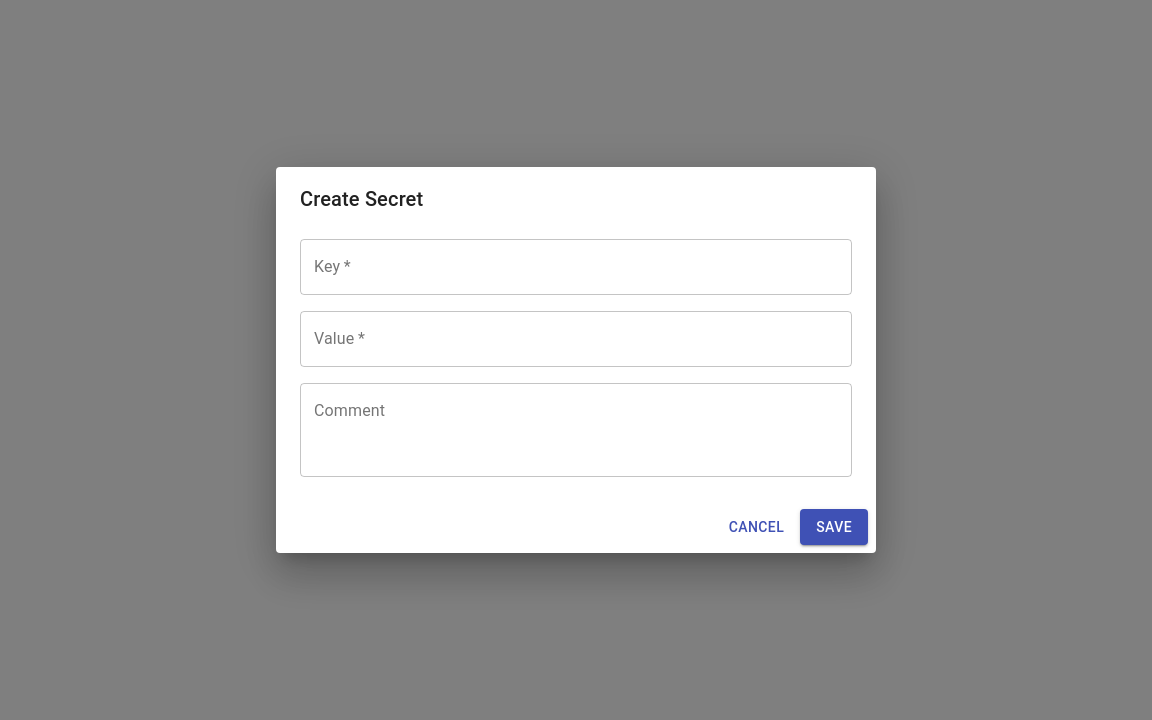
SecretDialog › should validate form fields
Try to save with empty fields
Click the button "Save".
click(834, 527)  # box [800,509,868,545]
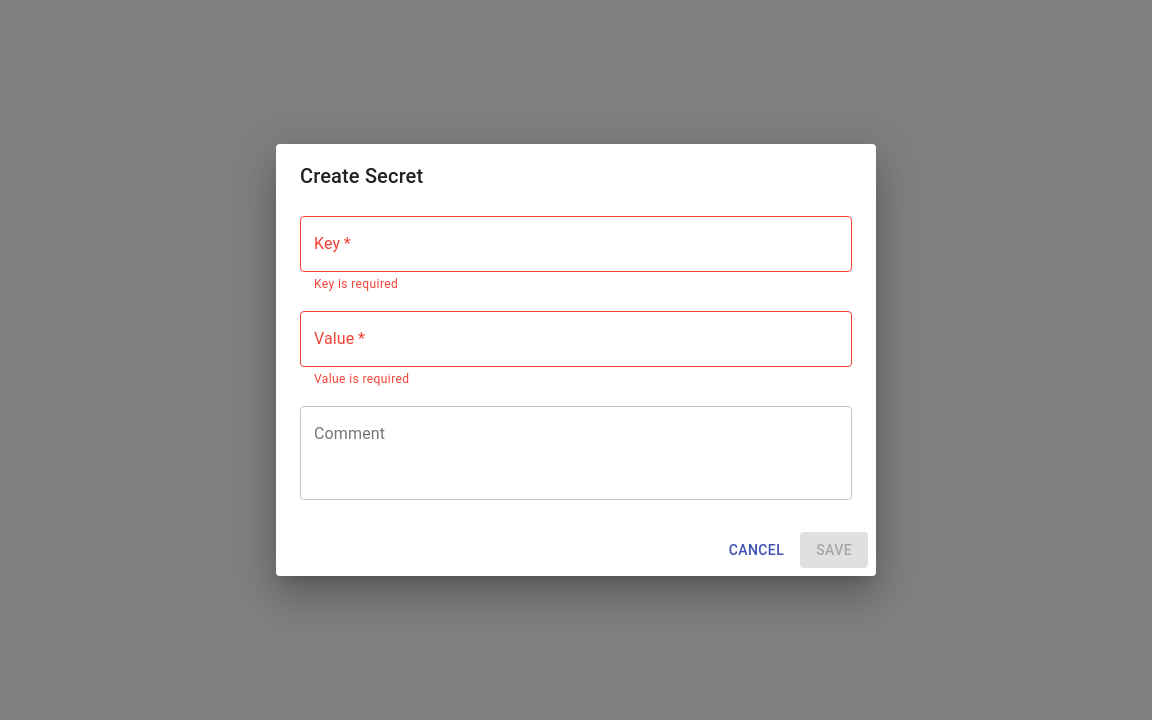
Now the text "Key is required" is shown, box [314,277,398,291]
Now the text "Value is required" is shown, box [314,372,409,386]
